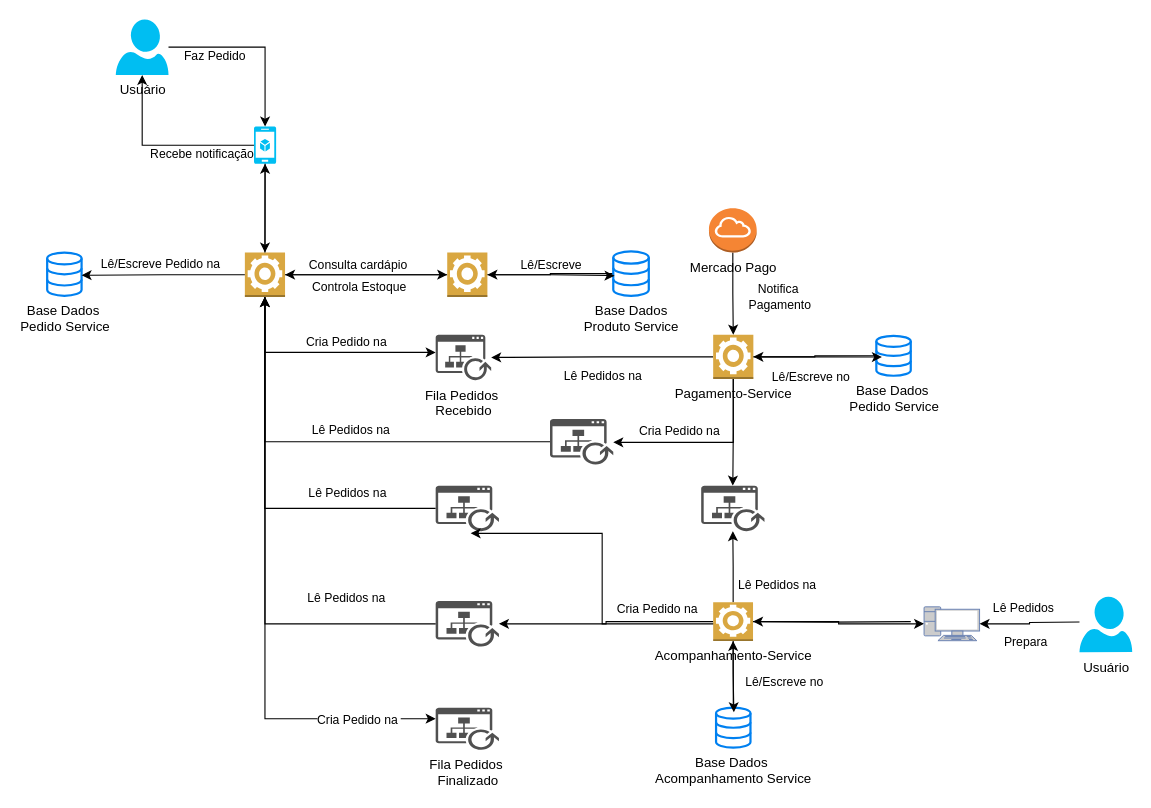
Some shapes in this 1151 by 808 pixel diagram are drawn without their labels. The shapes that lost their labels are listed below. From the top down, each one's box as (x1, y1, x2, y2) in pixels, then its label:
(244, 251, 285, 297): Pedido-Service
(446, 251, 487, 297): Produto-Service
(549, 418, 613, 464): Fila Pedidos Pagamento Recusado
(435, 485, 498, 531): Fila Pedidos Em preparação
(701, 485, 764, 531): Fila Pedidos Pagamento Aceito
(435, 601, 498, 646): Fila Pedidos Pronto
